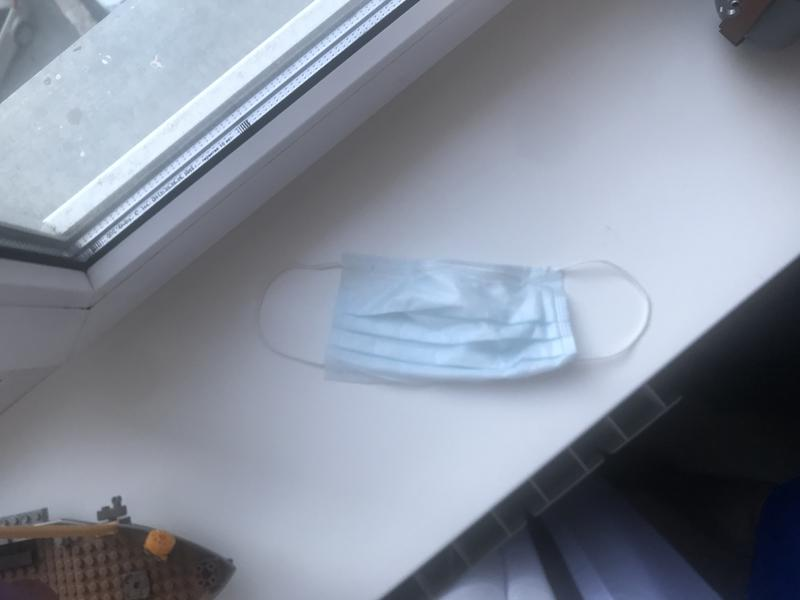medical_mask: (254, 255, 653, 382)
